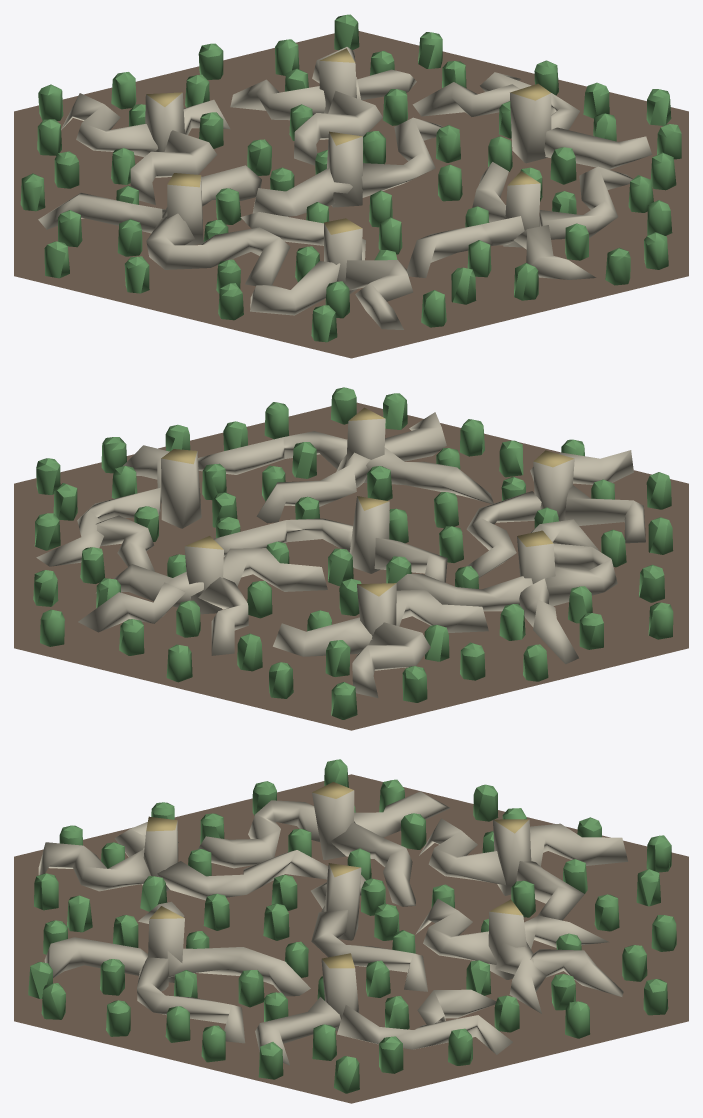
The model's file is Tile_ForestDeforestado_3.fbx.
The picture shows the model from 3 angles, top to bottom: view 1: azimuth 30°, elevation 25°; view 2: azimuth 150°, elevation 25°; view 3: azimuth 270°, elevation 25°; orthographic projection.
Visible parts, largest first — view 1: Forest_3; view 2: Forest_3; view 3: Forest_3.
Part boxes in pixels (box(x1,y1,x2,y2)): Forest_3: box(14, 14, 688, 358); Forest_3: box(14, 387, 688, 730); Forest_3: box(14, 759, 688, 1103).
Size of the model in its own units: 139 by 13.54 by 120.
Materials: 1 (1 with a texture image).
